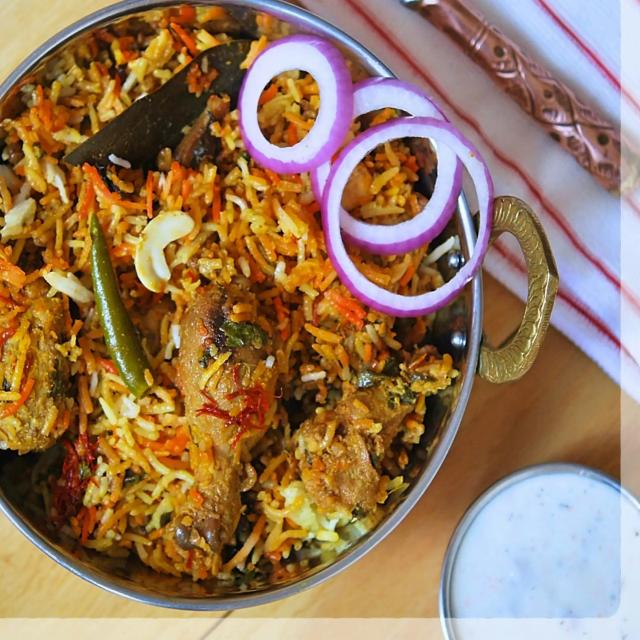Biryani: (0, 0, 463, 584)
